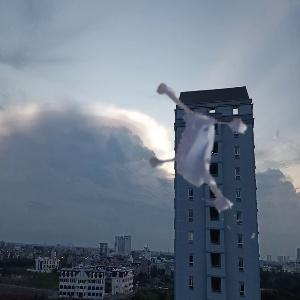drone: (135, 84, 291, 240)
